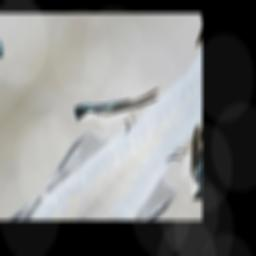Swallow: (66, 58, 167, 150)
